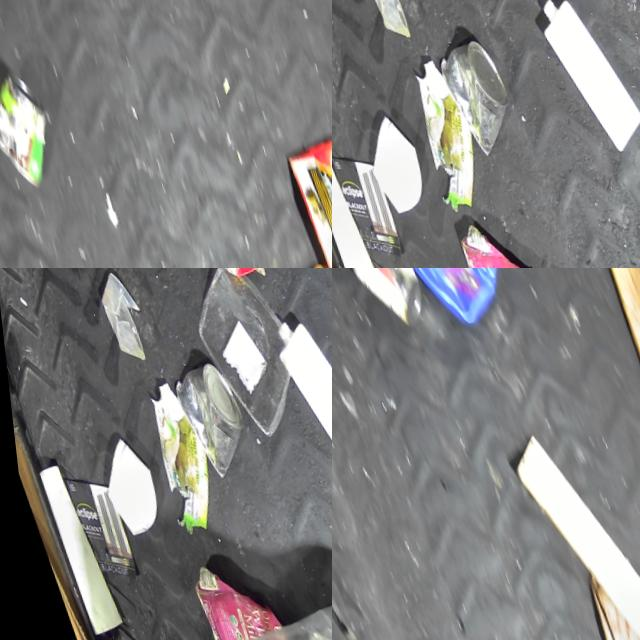can: (425, 29, 521, 159), (160, 352, 256, 482), (0, 60, 60, 193), (336, 268, 434, 336)
milk_jug: (525, 0, 640, 155), (258, 297, 332, 477)
non_white_jug: (395, 268, 534, 346)
